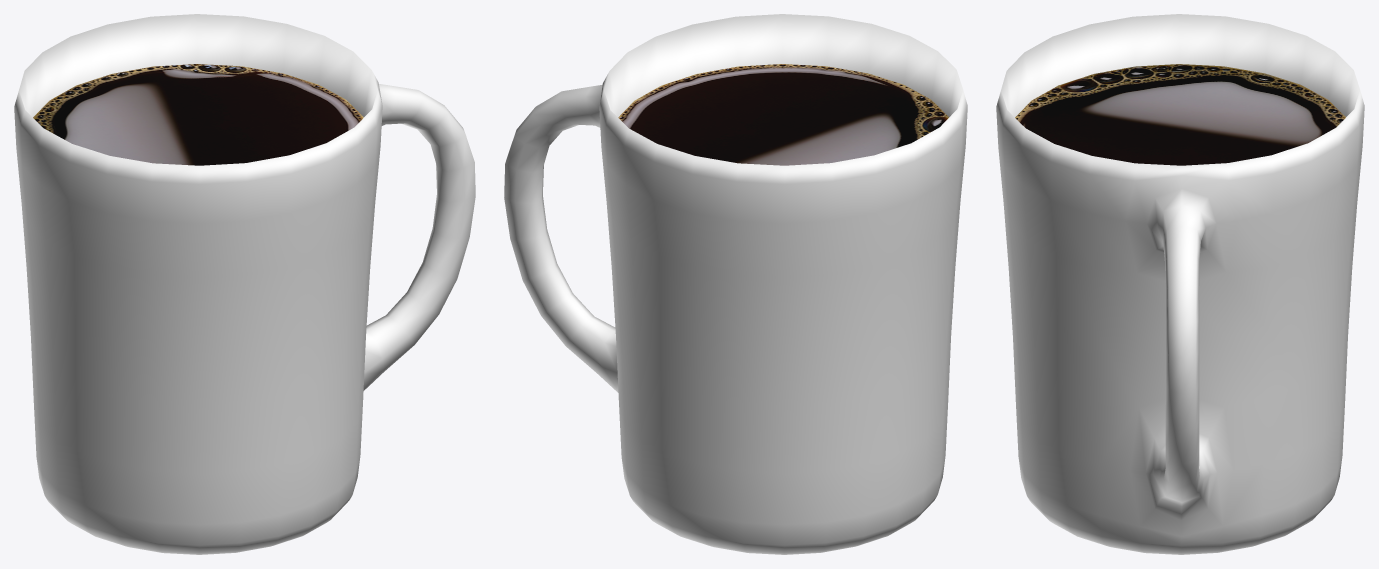
Rendered from Cup.FBX.
The picture shows the model from 3 angles, left to right: view 1: azimuth 30°, elevation 25°; view 2: azimuth 150°, elevation 25°; view 3: azimuth 270°, elevation 25°; orthographic projection.
Visible parts, largest first — view 1: cup; view 2: cup; view 3: cup.
Part boxes in pixels (x1=…): cup: x1=14, y1=14, x2=475, y2=554; cup: x1=504, y1=14, x2=967, y2=554; cup: x1=996, y1=14, x2=1364, y2=554.
Size of the model in its own units: 10.82 by 9.68 by 7.92.
1 material, 1 textured.
